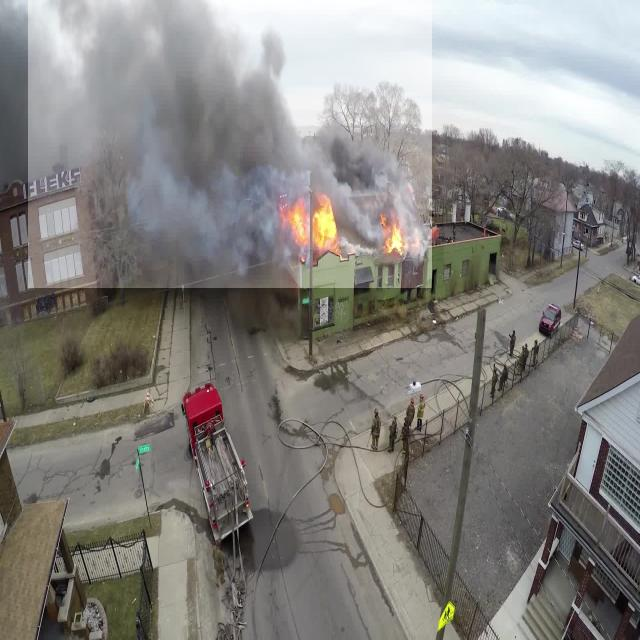Fire: (279, 176, 444, 274)
Smoke: (28, 0, 432, 288)
